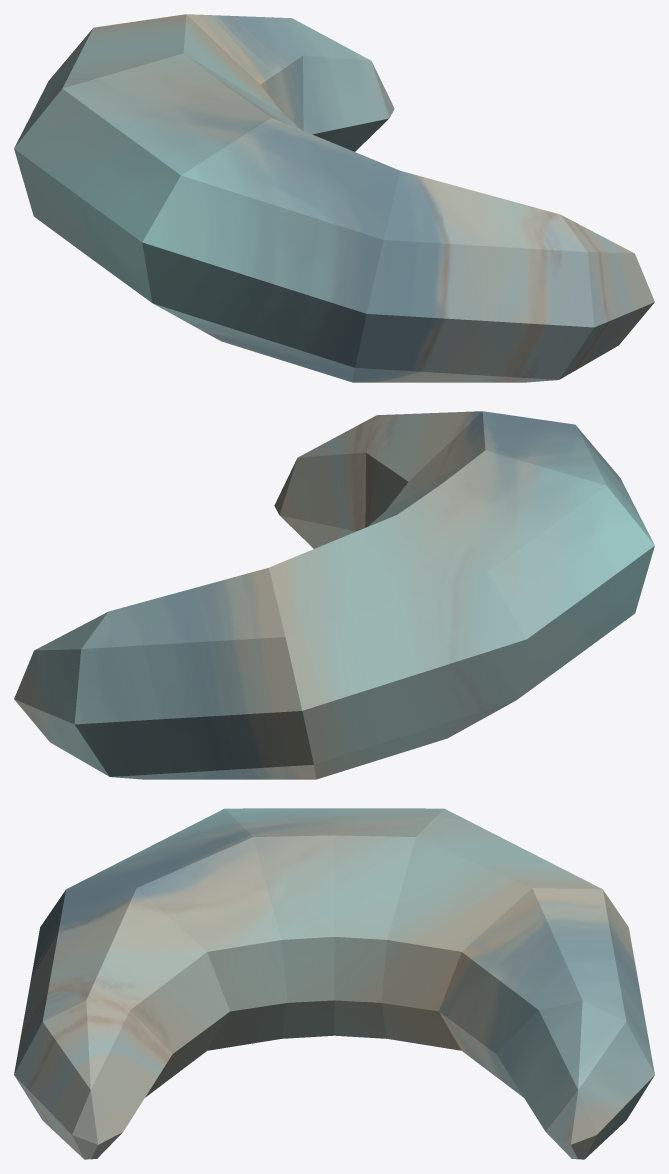
File: Pebble_1.fbx
The picture shows the model from 3 angles, top to bottom: view 1: azimuth 30°, elevation 25°; view 2: azimuth 150°, elevation 25°; view 3: azimuth 270°, elevation 25°; orthographic projection. The views are drawn at different scales.
Parts seen in each view (by area): view 1: Pebble_1; view 2: Pebble_1; view 3: Pebble_1.
Boxes of the visible parts, box(x1,y1,x2,y2) form: Pebble_1: box(14, 14, 654, 382); Pebble_1: box(14, 411, 654, 779); Pebble_1: box(14, 808, 654, 1159).
Size of the model in its own units: 127 by 65.27 by 171.
